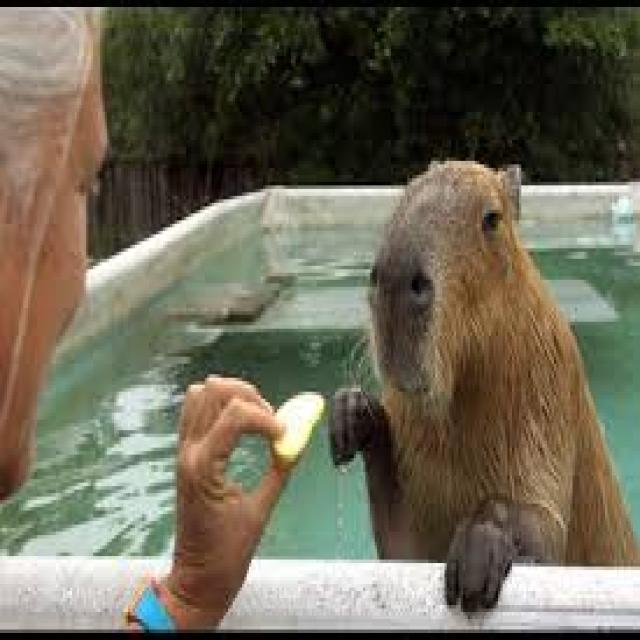capy: (326, 157, 640, 610)
